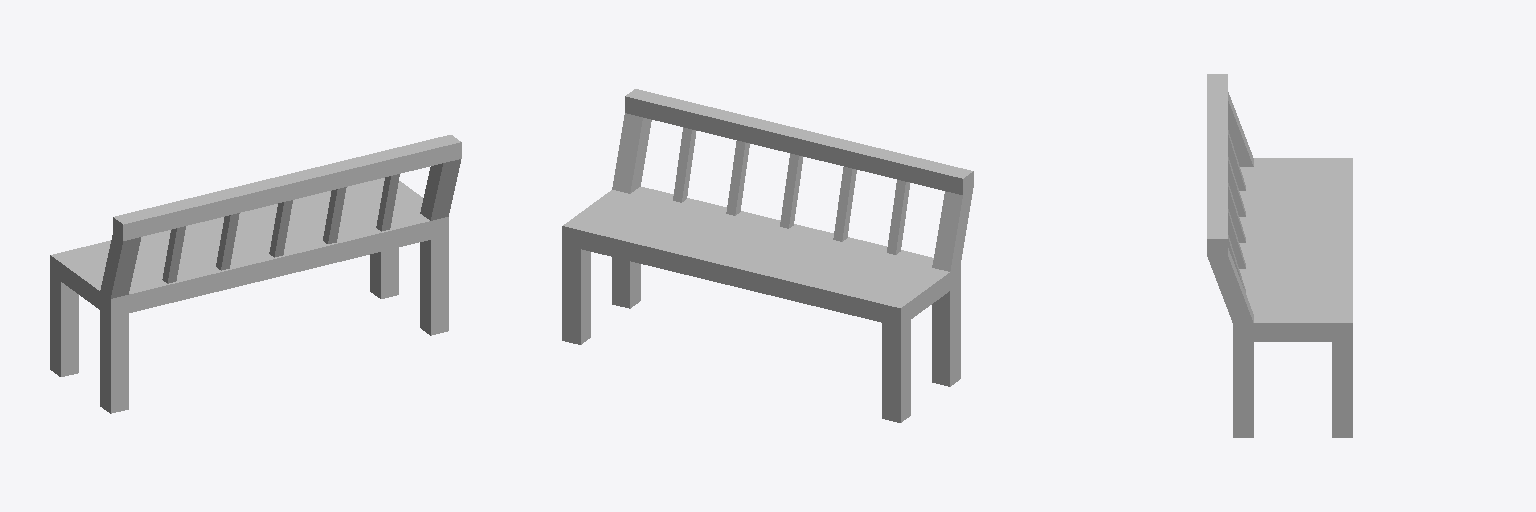
File: Chair.obj
3 views of the same model, side by side, from view 1: azimuth 30°, elevation 25°; view 2: azimuth 150°, elevation 25°; view 3: azimuth 270°, elevation 25° (orthographic).
Parts seen in each view (by area): view 1: Chair_Cube.001; view 2: Chair_Cube.001; view 3: Chair_Cube.001.
Boxes of the visible parts, x1,y1,x2,y2 form: Chair_Cube.001: [50, 135, 461, 413]; Chair_Cube.001: [562, 89, 973, 422]; Chair_Cube.001: [1207, 74, 1352, 437].
Size of the model in its own units: 6.32 by 3.55 by 2.36.